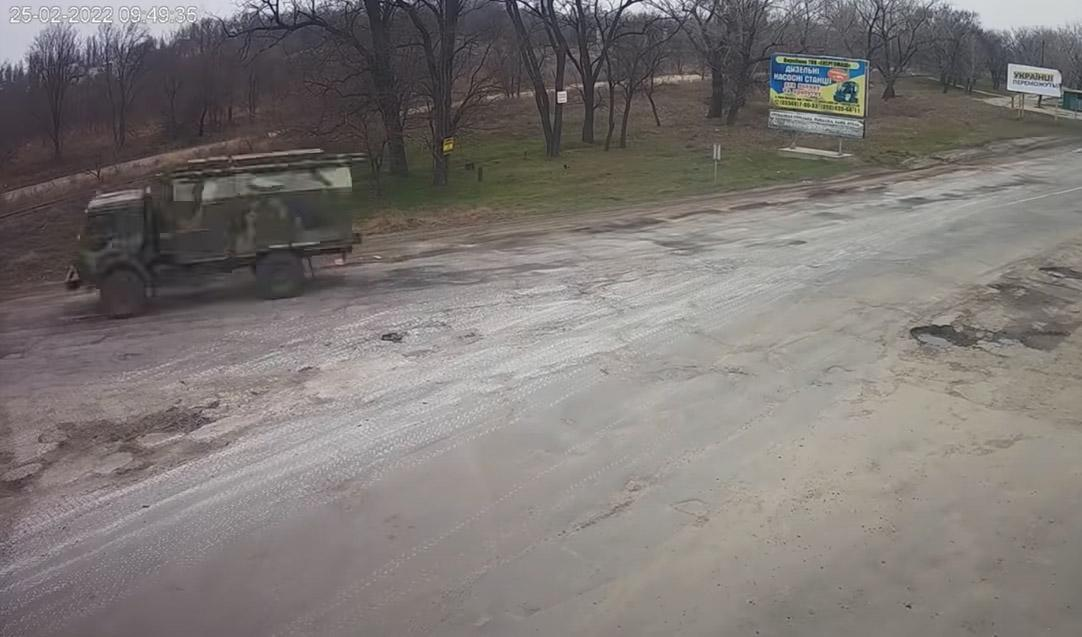truck: (71, 158, 353, 318)
